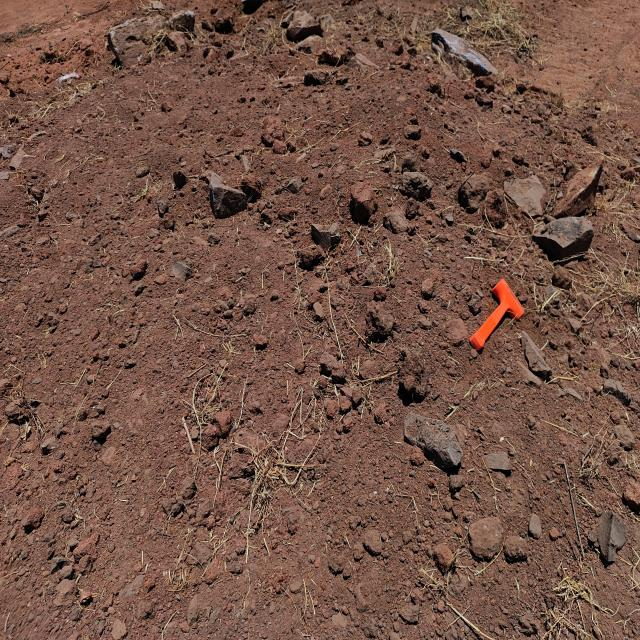Orange_hammer: (469, 278, 524, 352)
